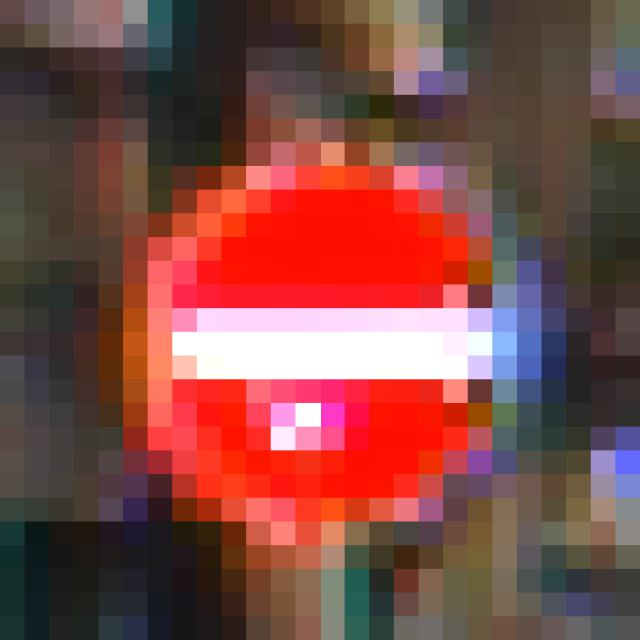No Entry: (124, 143, 518, 523)
